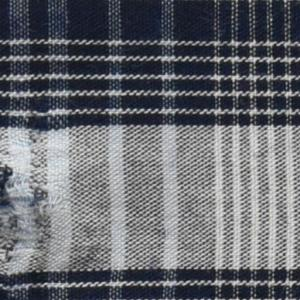Damage: (1, 123, 63, 300)
